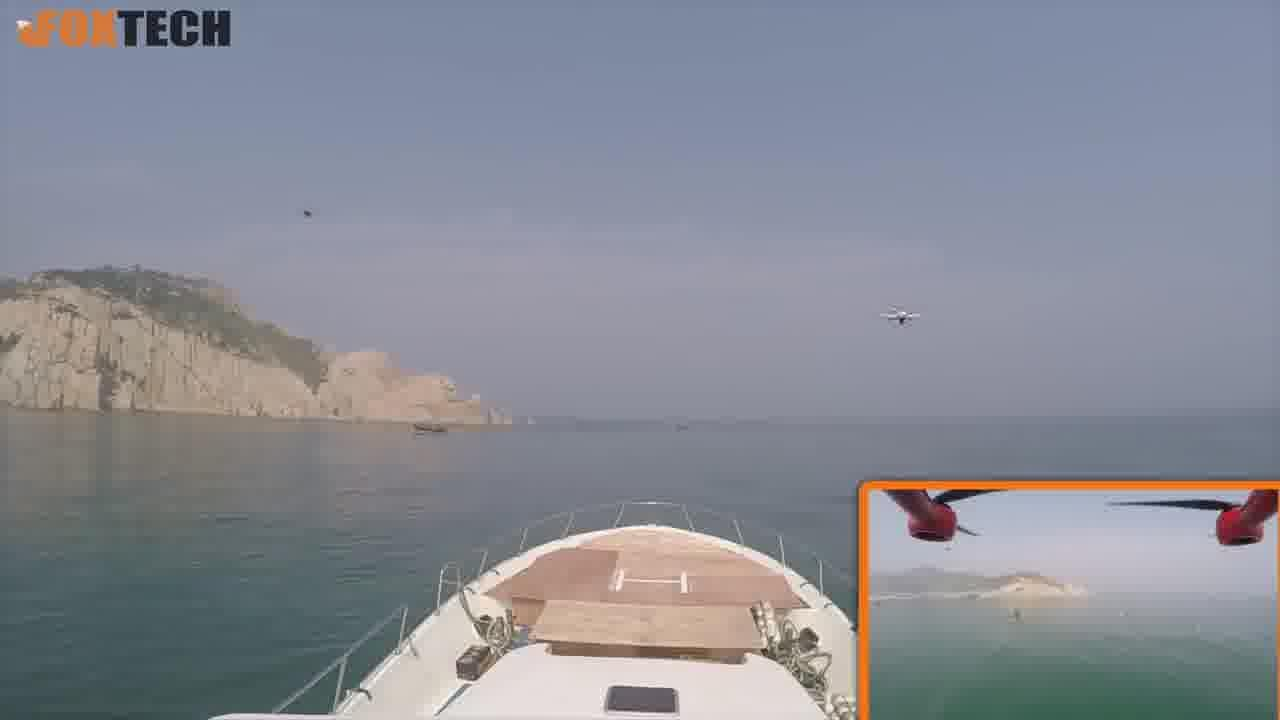drone: (868, 295, 930, 342)
